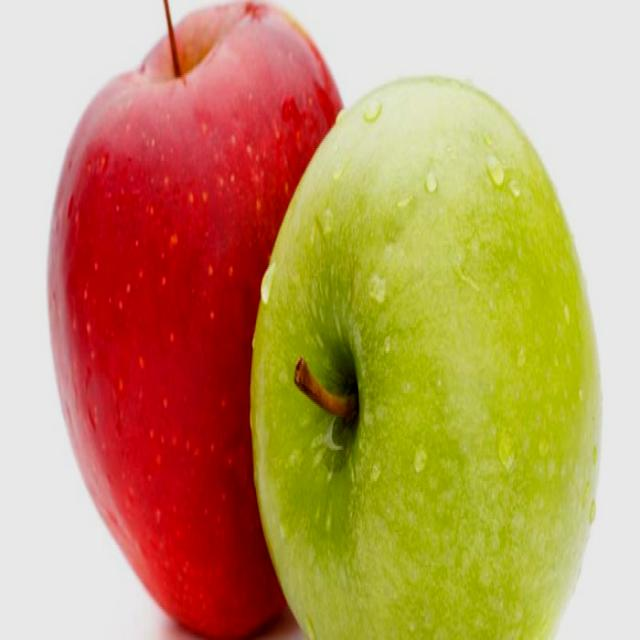apple: (45, 4, 378, 638)
